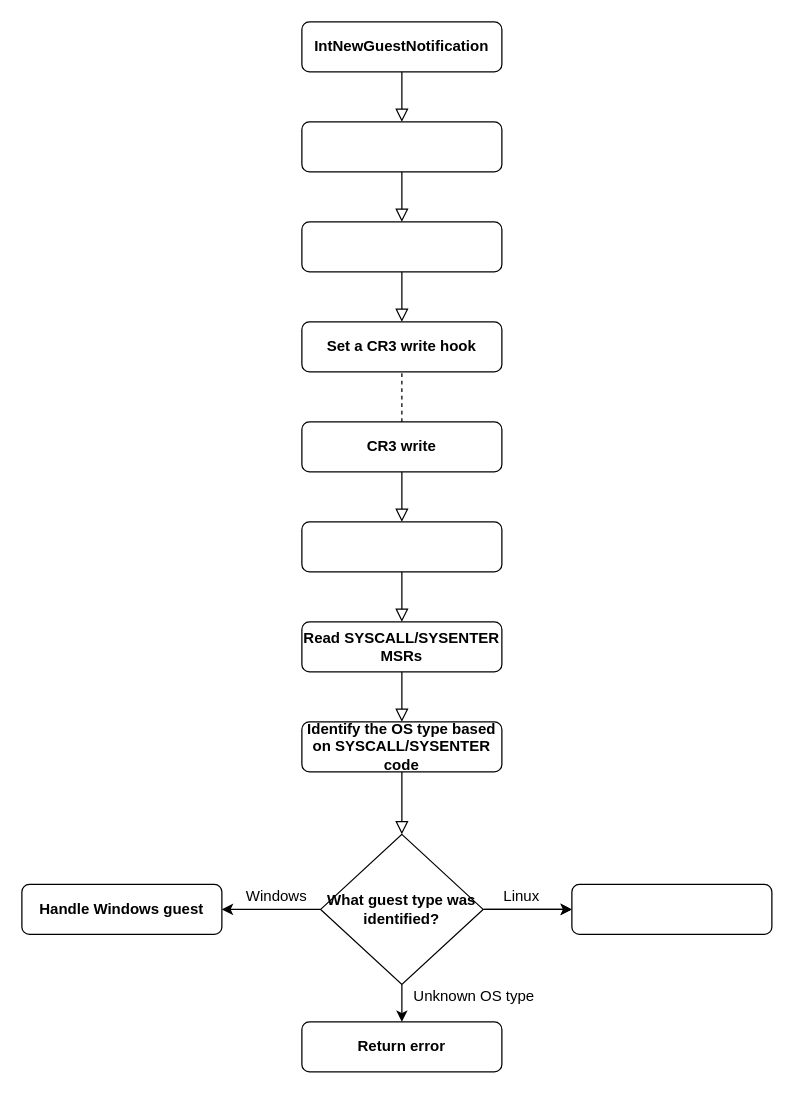
Some shapes in this 794 by 1094 pixel diagram are drawn without their labels. Each missing label, with the centre of its shape:
"Handle Linux guest" belongs at point (671, 908).
"Initialize common guest info" belongs at point (401, 246).
"Initialize memory info (paging mode)" belongs at point (401, 546).
"Load the guest support file" belongs at point (401, 146).
